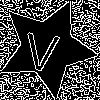V: (22, 22, 62, 73)
